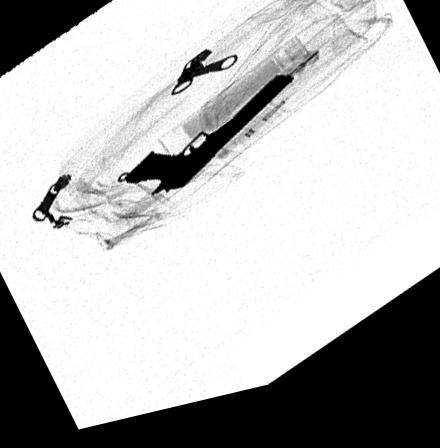Gun: (118, 85, 297, 205)
